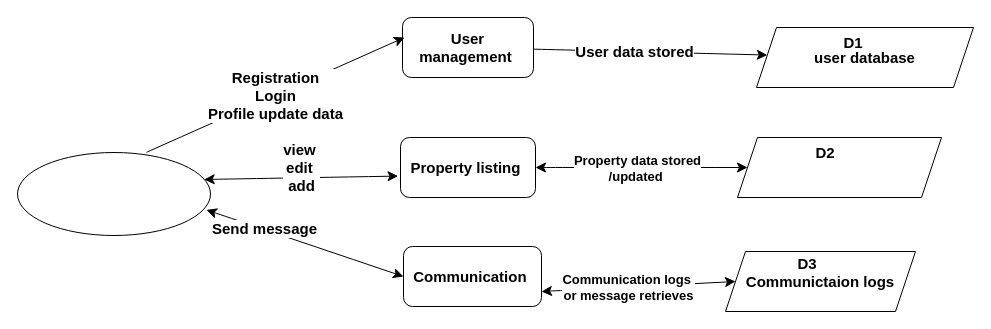
Image size: 991x329. Some labels were removed from this diagram. Each missing label, with the box of its shape:
Property database: (736, 136, 942, 198)
User: (16, 152, 210, 236)
